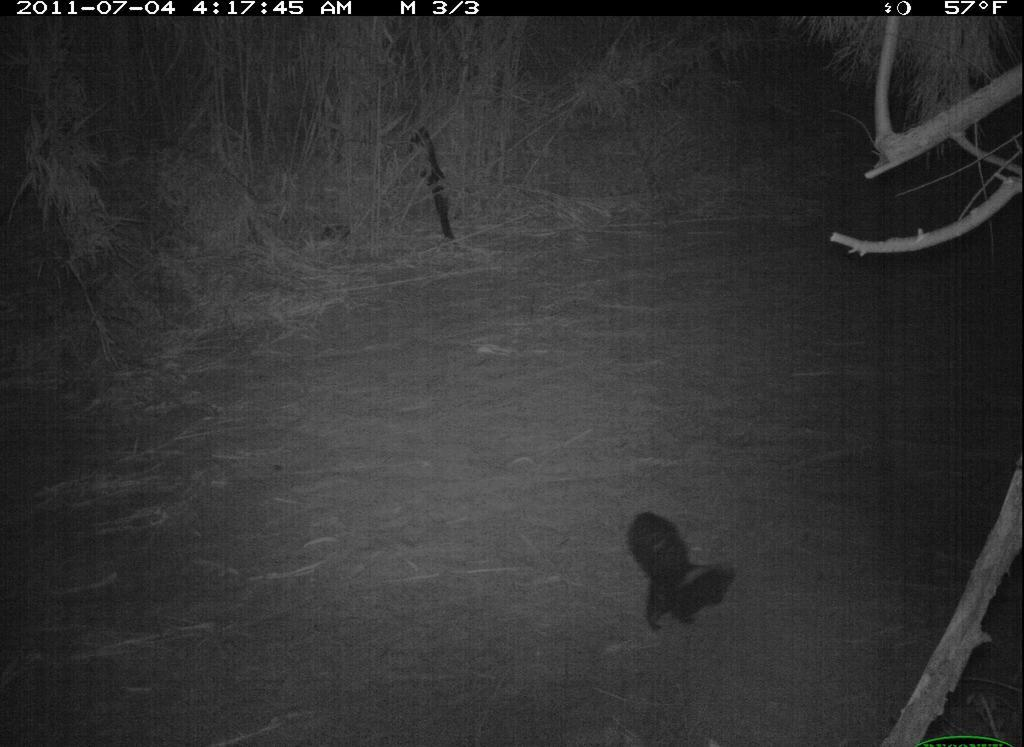skunk: (601, 502, 744, 643)
